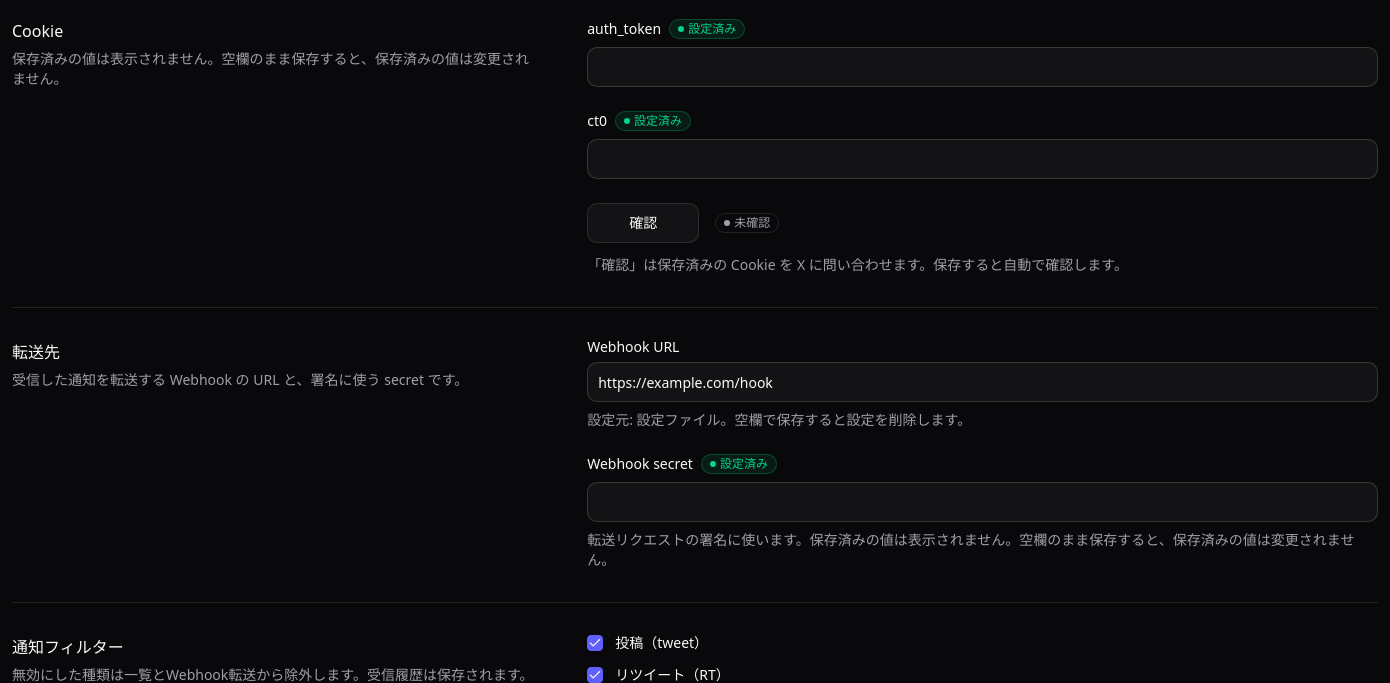
it: Settings › rejects an invalid webhook URL without sending
Replace the text in the field labelled "Webhook URL" with "ftp://example.com" at x=983, y=382, box [587,362,1378,402]
(page scrolled)
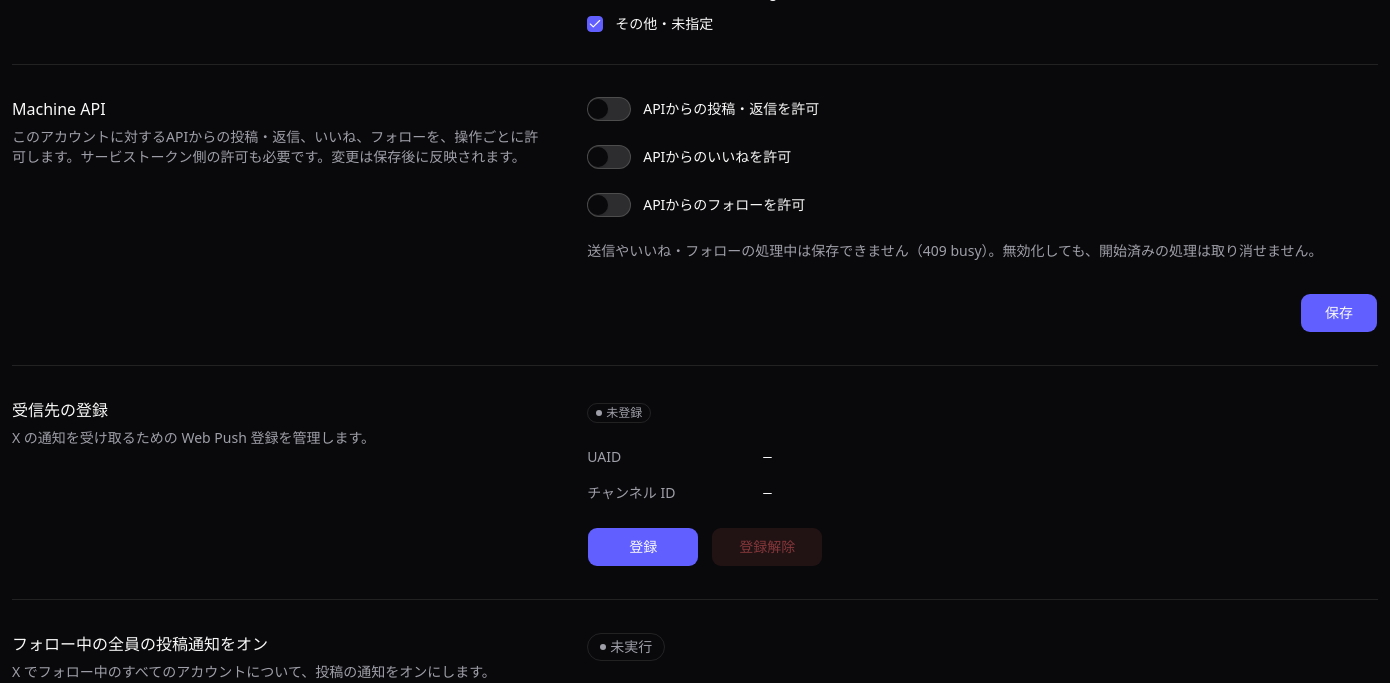
Click the button "保存" at x=1339, y=313, box [1300,293,1378,333]
(page scrolled)
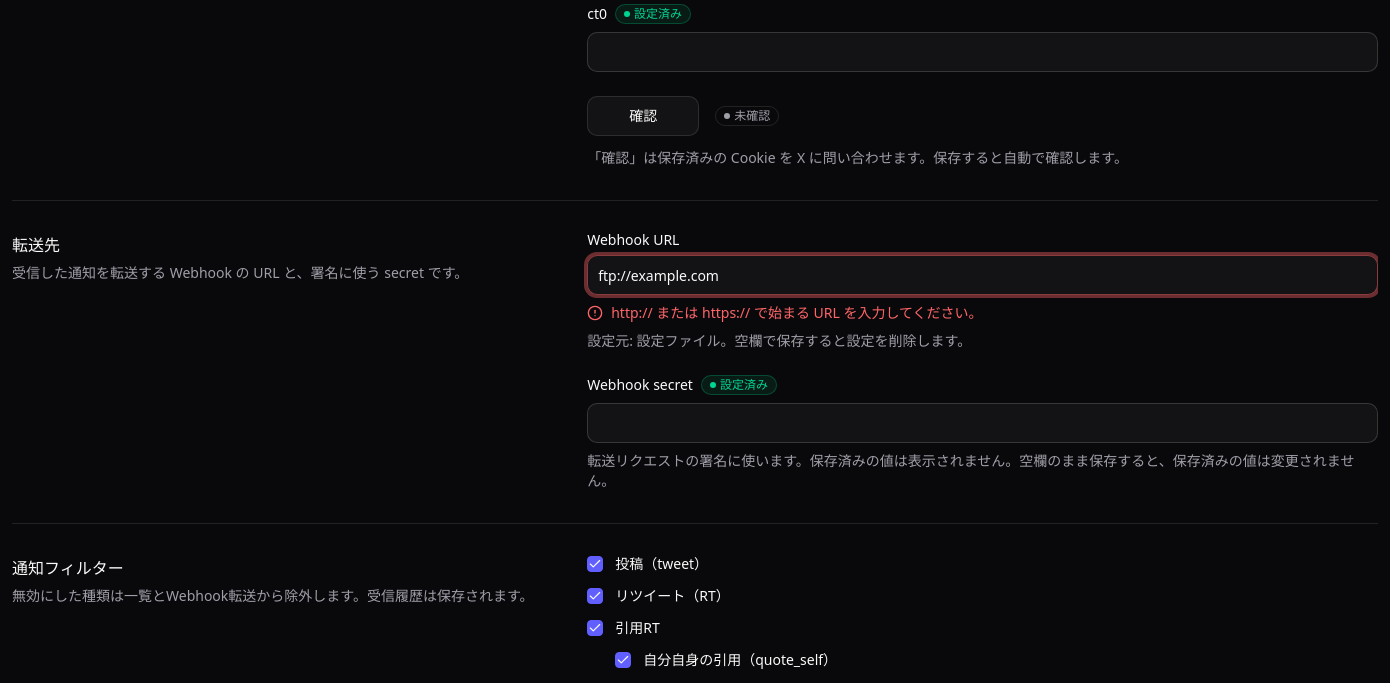
Now the text "http:// または https:// で始まる URL を入力してください。" is shown, box [611,303,983,323]
